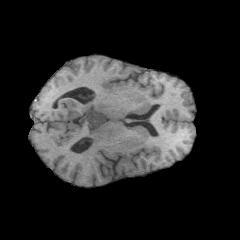glioma: (79, 103, 117, 147)
